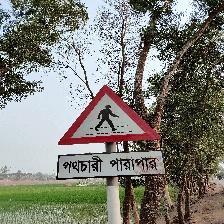Pedestrian-crossing: (55, 84, 164, 177)
